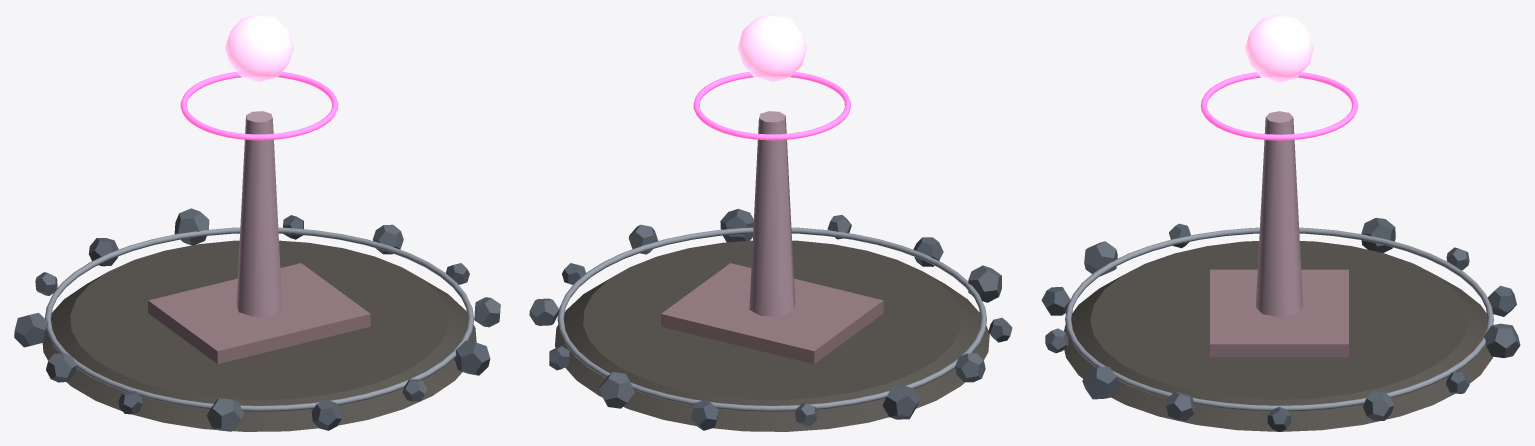
File: unit06.glb
3 views of the same model, side by side, from view 1: azimuth 30°, elevation 25°; view 2: azimuth 150°, elevation 25°; view 3: azimuth 270°, elevation 25° (orthographic).
Parts seen in each view (by area): view 1: rw3_unit06_temple, Crystal; view 2: rw3_unit06_temple, Crystal; view 3: rw3_unit06_temple, Crystal.
Part boxes in pixels (left/top/right/bottom): rw3_unit06_temple: left=14, top=72, right=500, bottom=431; Crystal: left=224, top=14, right=293, bottom=81; rw3_unit06_temple: left=529, top=72, right=1012, bottom=431; Crystal: left=737, top=14, right=806, bottom=81; rw3_unit06_temple: left=1041, top=72, right=1520, bottom=431; Crystal: left=1245, top=14, right=1313, bottom=82.
Bounding box in the file's own units: 7.64 × 5.65 × 7.59.
